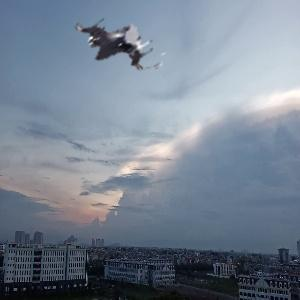drone: (62, 4, 155, 97)
